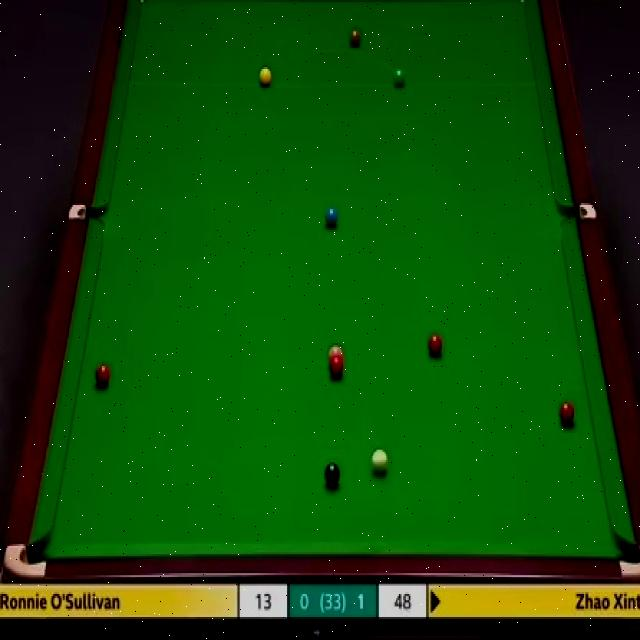black-ball: (324, 460, 341, 487)
blue-ball: (324, 205, 340, 228)
brown-ball: (348, 28, 362, 49)
green-ball: (392, 66, 406, 88)
pink-ball: (328, 345, 344, 360)
red-ball: (95, 361, 111, 389), (559, 403, 576, 426), (427, 333, 442, 358), (328, 357, 344, 378)
white-ball: (371, 450, 388, 476)
yellow-ball: (261, 68, 274, 89)
